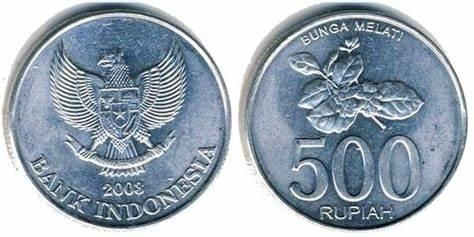coin_500_e2003: (0, 0, 232, 230), (249, 8, 467, 233)
